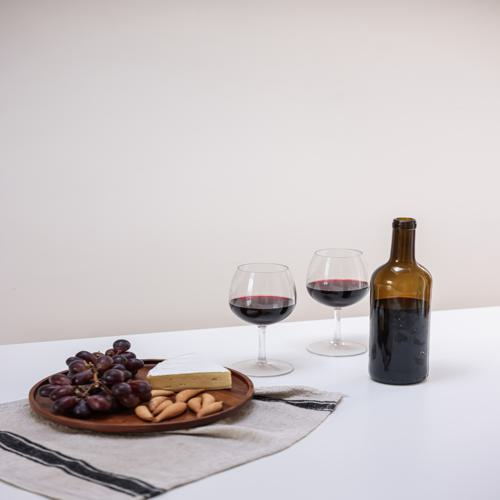copa: (305, 246, 368, 360), (234, 263, 295, 377)
